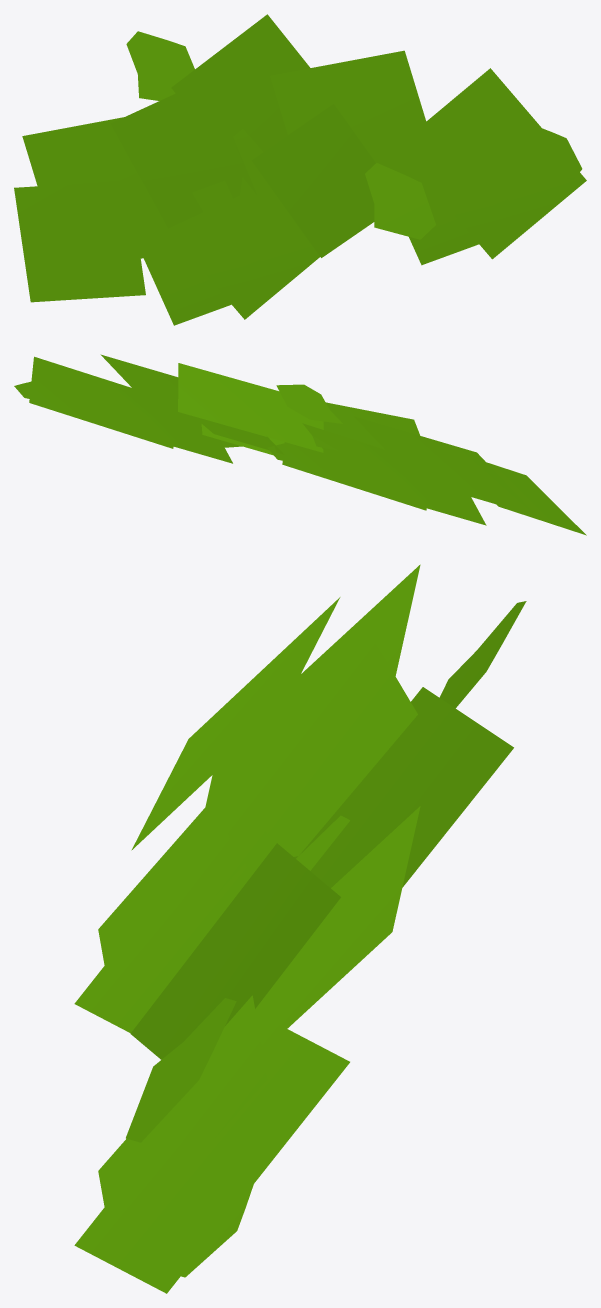
The model's file is prop_Vine9.glb.
3 views of the same model, one above another, from view 1: azimuth 30°, elevation 25°; view 2: azimuth 150°, elevation 25°; view 3: azimuth 270°, elevation 25° (orthographic). The views are drawn at different scales.
Parts seen in each view (by area): view 1: Prop_Vine9; view 2: Prop_Vine9; view 3: Prop_Vine9.
Part boxes in pixels (left/top/right/bottom): Prop_Vine9: left=14, top=14, right=586, bottom=325; Prop_Vine9: left=14, top=354, right=586, bottom=535; Prop_Vine9: left=74, top=564, right=526, bottom=1293.
Size of the model in its own units: 4.14 by 1.47 by 1.47.
Materials: 1 (1 with a texture image).
